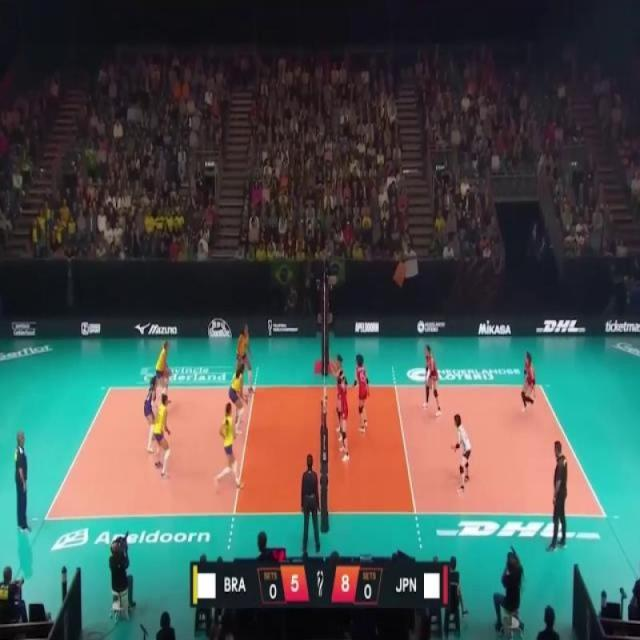volleyball: (327, 274, 337, 286)
